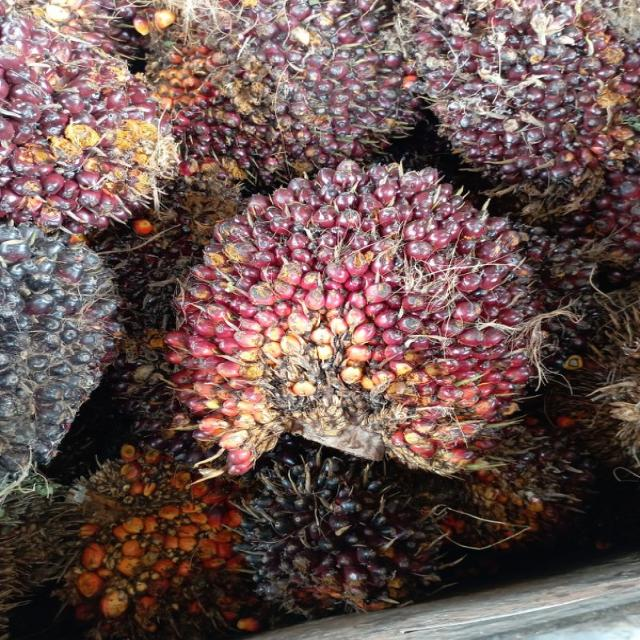fraksi 1: (119, 114, 603, 534)
